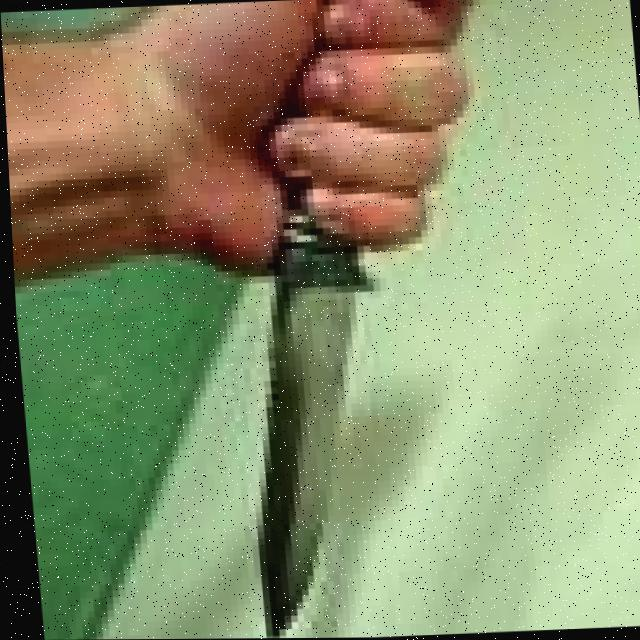knife: (197, 243, 436, 639)
